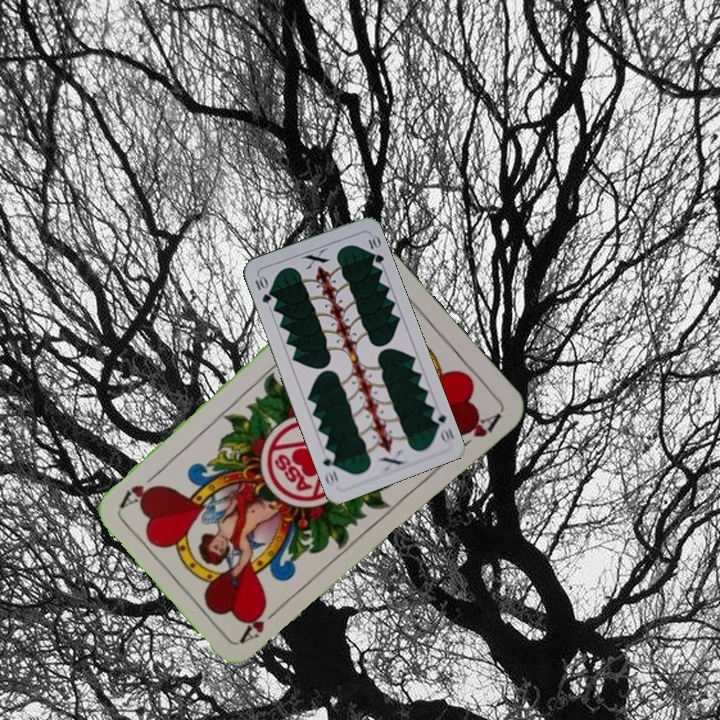G10: (427, 405, 457, 445), (251, 272, 274, 306)
HA: (237, 600, 286, 645)
